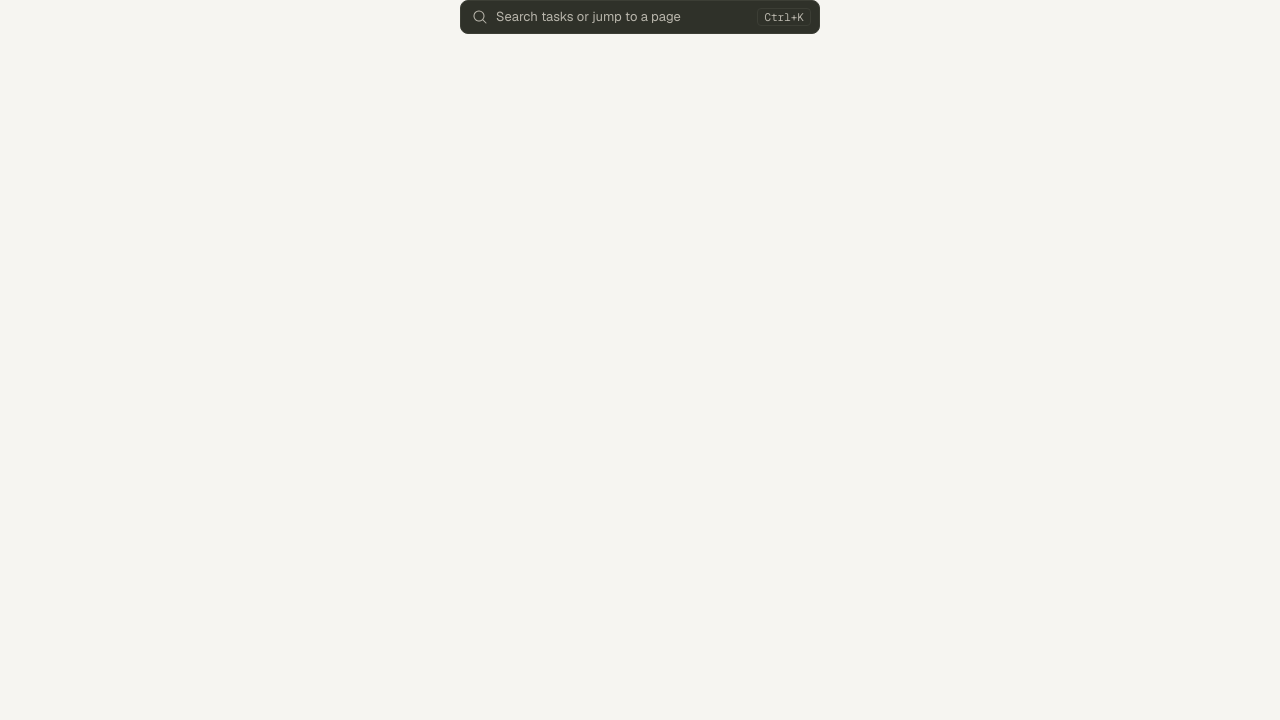
Scenario: the search palette › says when nothing matches
Step 1. Press k
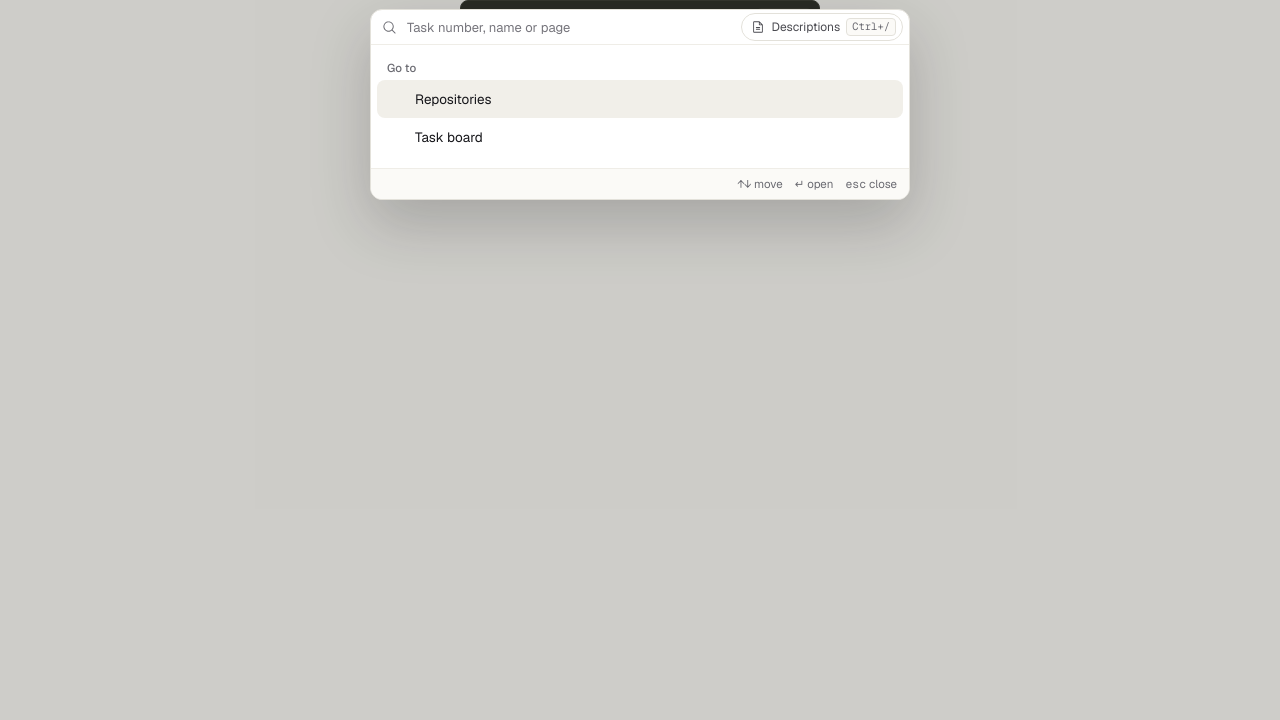
Step 2. Type "zzz" into the dropdown with placeholder "Task number, name or page" → (569, 27), box [407, 11, 731, 43]
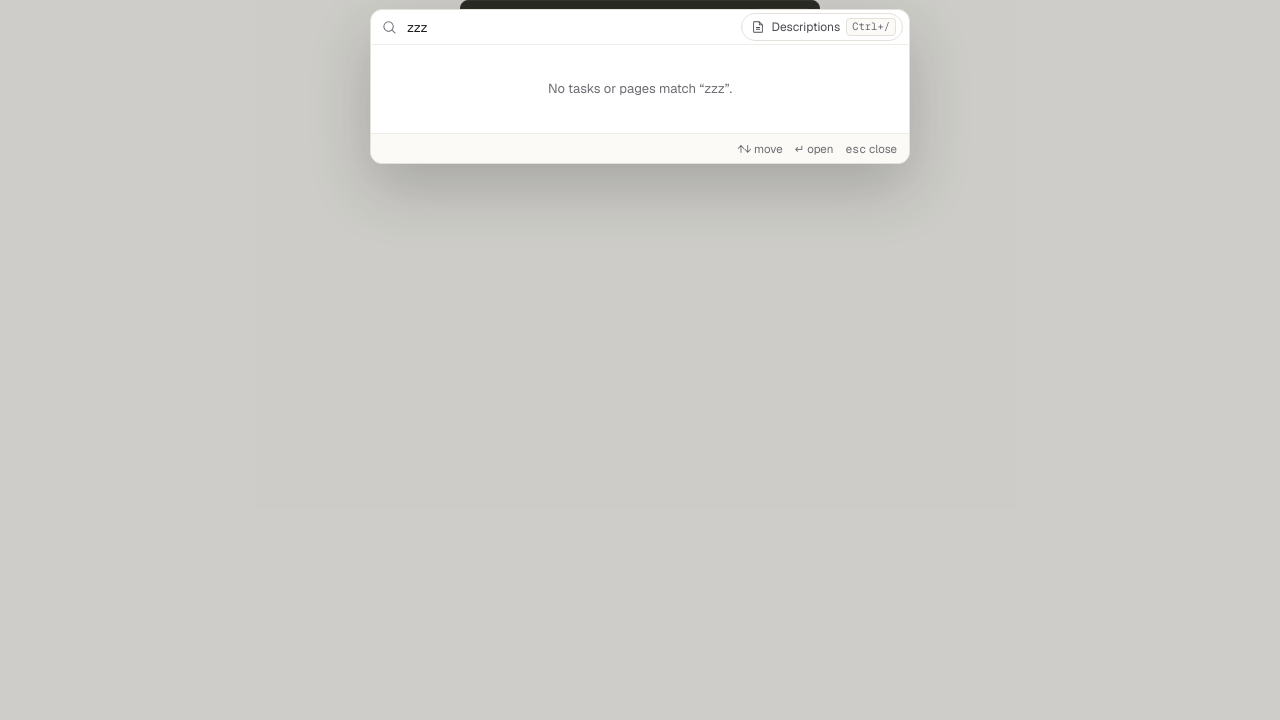
Now the text "No tasks or pages match “zzz”." is shown, box [548, 80, 732, 97]
